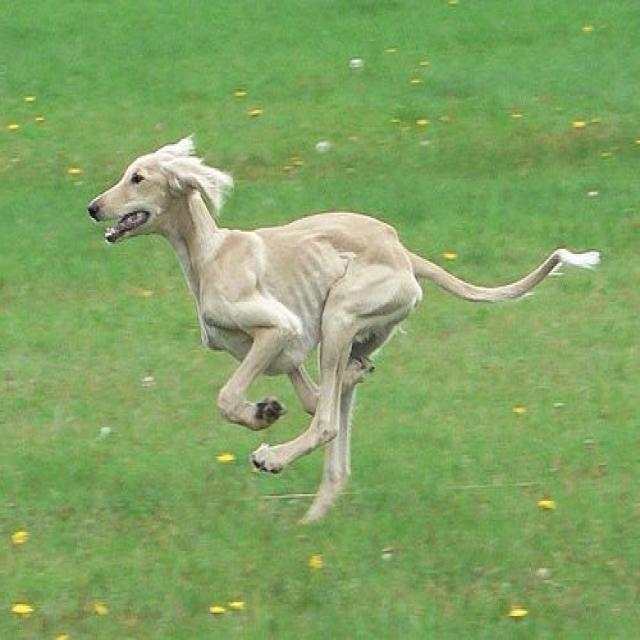saluki: (88, 132, 604, 523)
